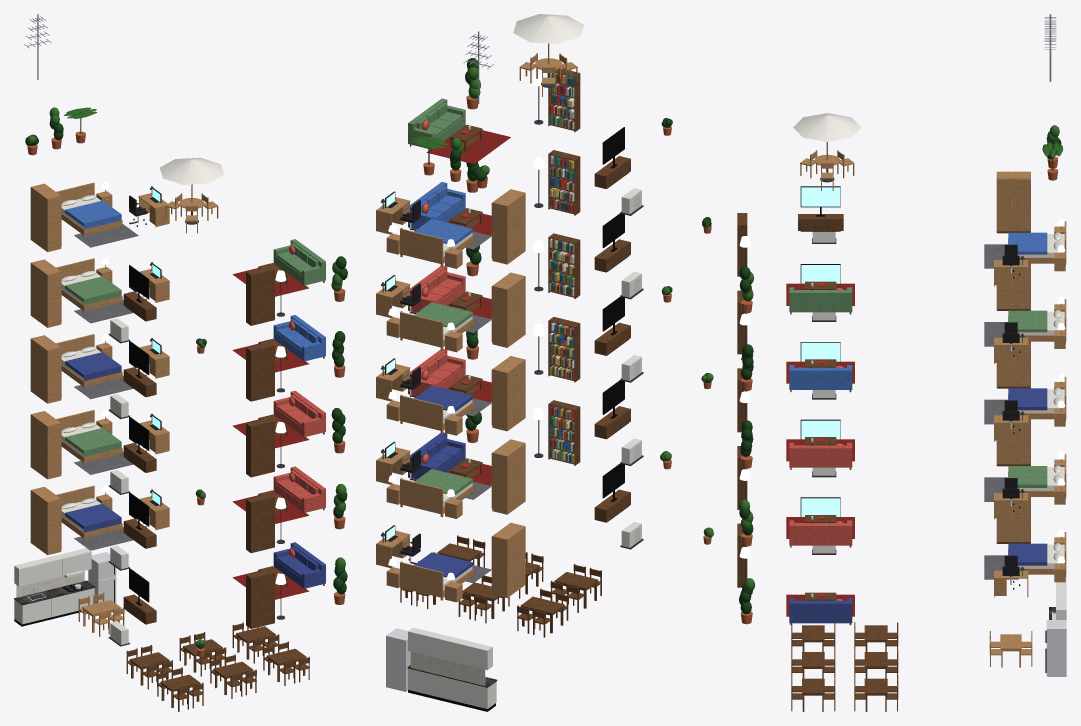
Rendered from i_hk_tonglau.gltf.
3 views of the same model, side by side, from view 1: azimuth 30°, elevation 25°; view 2: azimuth 150°, elevation 25°; view 3: azimuth 270°, elevation 25° (orthographic). The views are drawn at different scales.
Parts seen in each view (by area): view 1: I_hk_tonglau; view 2: I_hk_tonglau; view 3: I_hk_tonglau.
Boxes of the visible parts, x1=… form: I_hk_tonglau: x1=14, y1=14, x2=347, y2=711; I_hk_tonglau: x1=376, y1=14, x2=672, y2=711; I_hk_tonglau: x1=701, y1=14, x2=1066, y2=711.
Bounding box in the file's own units: 8.06 × 24.1 × 12.77.
34 materials, 13 textured.
